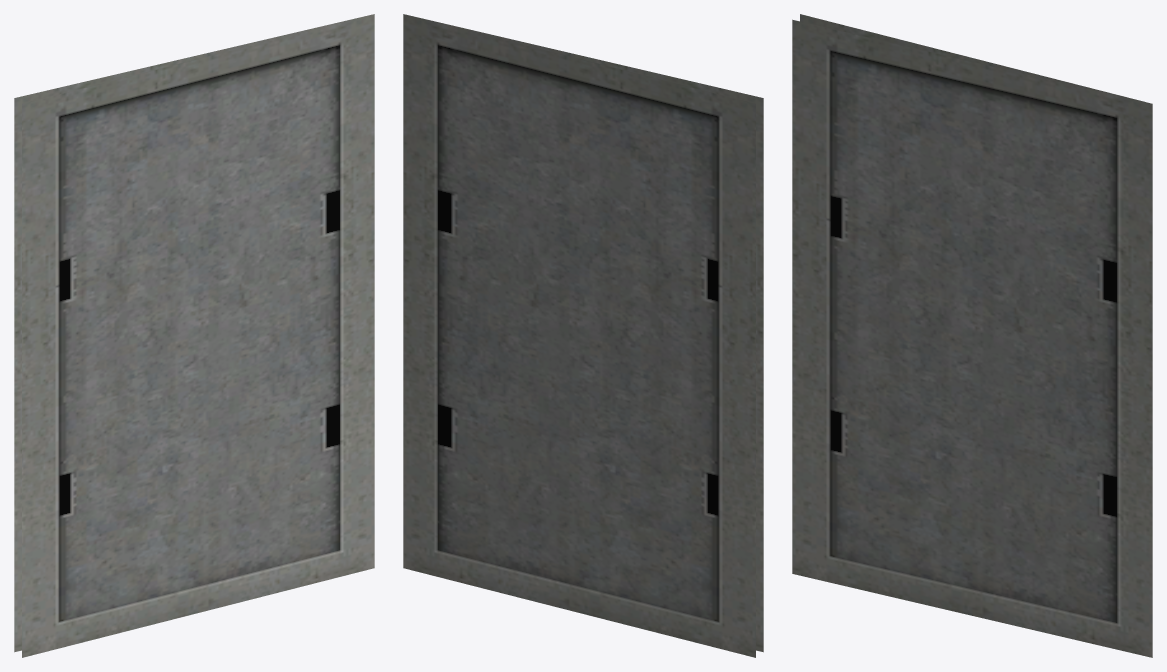
Rendered from door_corl_metal_s01_l1.fbx.
3 views of the same model, side by side, from view 1: azimuth 30°, elevation 25°; view 2: azimuth 150°, elevation 25°; view 3: azimuth 330°, elevation 25° (orthographic).
Parts seen in each view (by area): view 1: mesh_node; view 2: mesh_node; view 3: mesh_node.
Part boxes in pixels (x1,y1,x2,y2): mesh_node: [14, 14, 374, 657]; mesh_node: [403, 14, 763, 657]; mesh_node: [792, 14, 1152, 657].
Bounding box in the file's own units: 2.02 × 3 × 0.0761.
Materials: 1 (1 with a texture image).
